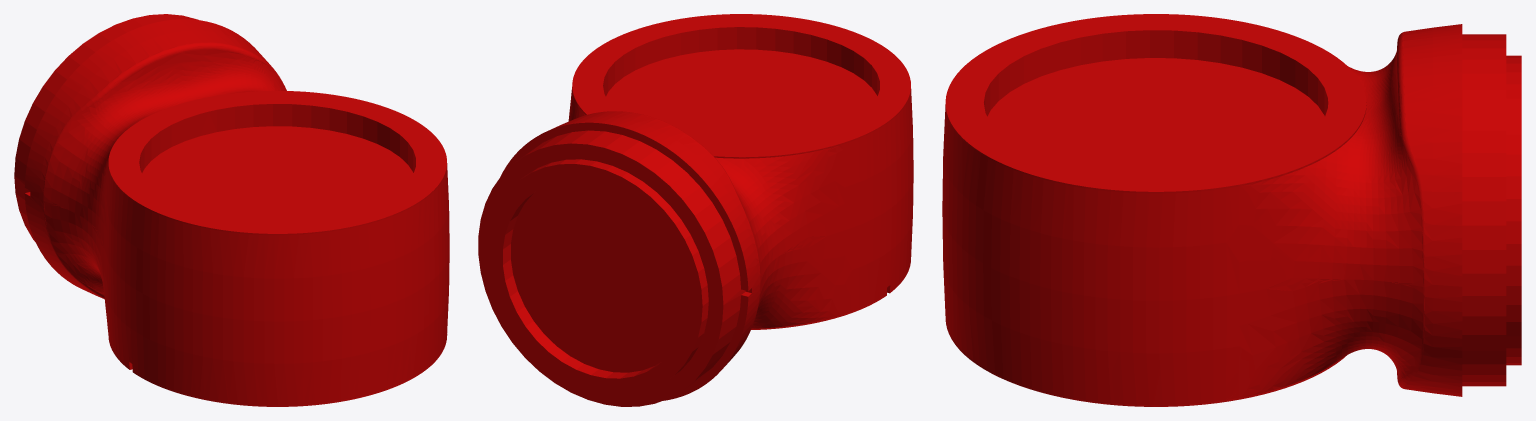
3 renders of one model, left to right at view 1: azimuth 30°, elevation 25°; view 2: azimuth 150°, elevation 25°; view 3: azimuth 270°, elevation 25°, orthographic. The views are drawn at different scales.
Visible parts, largest first — view 1: Link1; view 2: Link1; view 3: Link1.
Part boxes in pixels (x1,y1,x2,y2): Link1: (14, 14, 449, 406); Link1: (478, 14, 913, 406); Link1: (942, 14, 1521, 406).
Size of the model in its own units: 0.1116 by 0.0974 by 0.1513.
